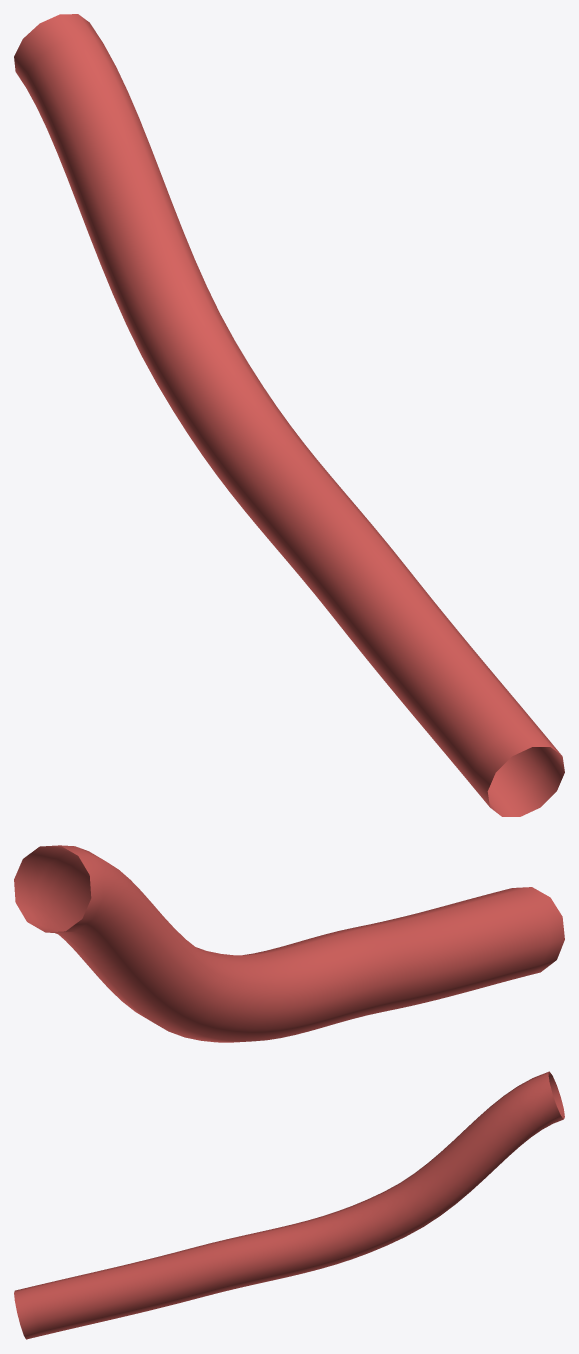
The picture shows the model from 3 angles, top to bottom: view 1: azimuth 30°, elevation 25°; view 2: azimuth 150°, elevation 25°; view 3: azimuth 270°, elevation 25°; orthographic projection. The views are drawn at different scales.
Visible parts, largest first — view 1: 基底动脉; view 2: 基底动脉; view 3: 基底动脉.
Part boxes in pixels (box(x1,y1,x2,y2)): 基底动脉: box(14, 14, 564, 816); 基底动脉: box(14, 845, 564, 1042); 基底动脉: box(14, 1071, 564, 1339).
Bounding box in the file's own units: 0.00324 × 0.0186 × 0.0354.
